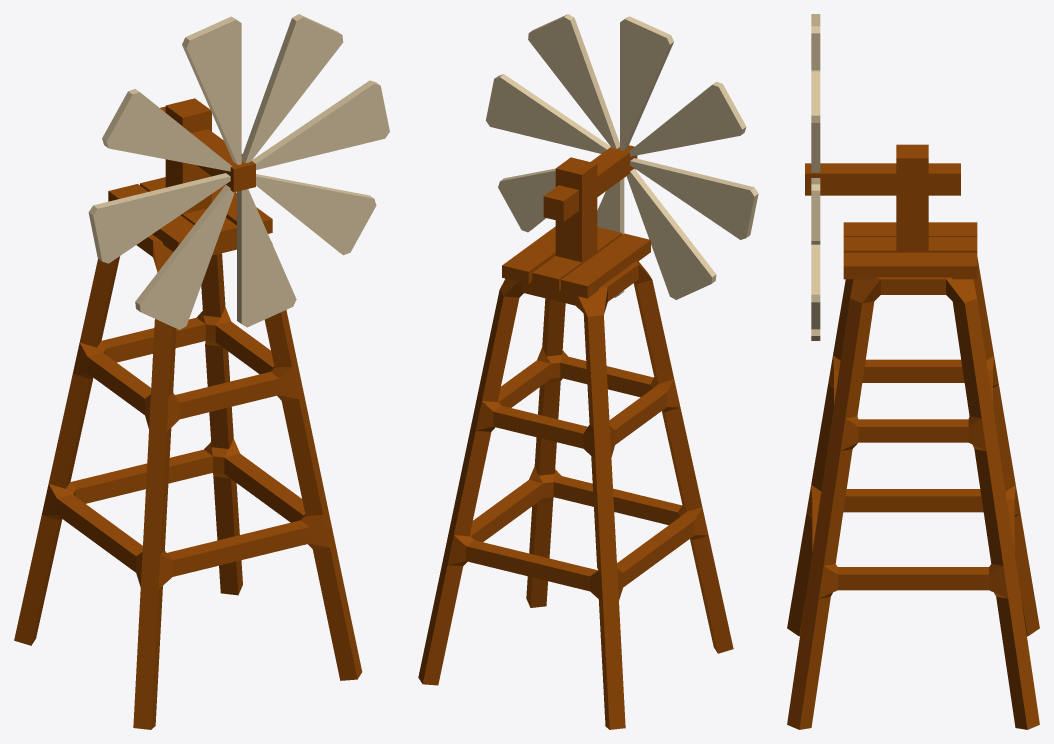
Rendered from windmill.fbx.
3 renders of one model, left to right at view 1: azimuth 30°, elevation 25°; view 2: azimuth 150°, elevation 25°; view 3: azimuth 270°, elevation 25°, orthographic. The views are drawn at different scales.
Parts seen in each view (by area): view 1: windmill, Circle.001; view 2: windmill, Circle.001; view 3: windmill, Circle.001.
Part boxes in pixels (x1,y1,x2,y2): windmill: (14, 98, 362, 729); Circle.001: (88, 14, 389, 329); windmill: (418, 145, 733, 729); Circle.001: (486, 14, 758, 299); windmill: (787, 144, 1039, 729); Circle.001: (811, 14, 820, 340).
Bounding box in the file's own units: 72.31 × 158 × 55.81.
